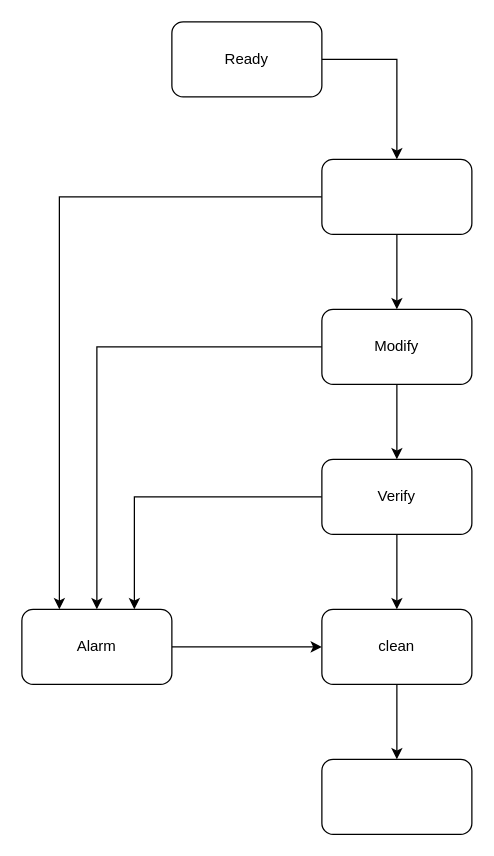
The diagram is 494 pixels wide and 856 high, and some of its shapes have lost their labels. Each missing label, with the centre of its shape:
"Restore" goes at point (396, 196).
"Tested" goes at point (396, 796).
